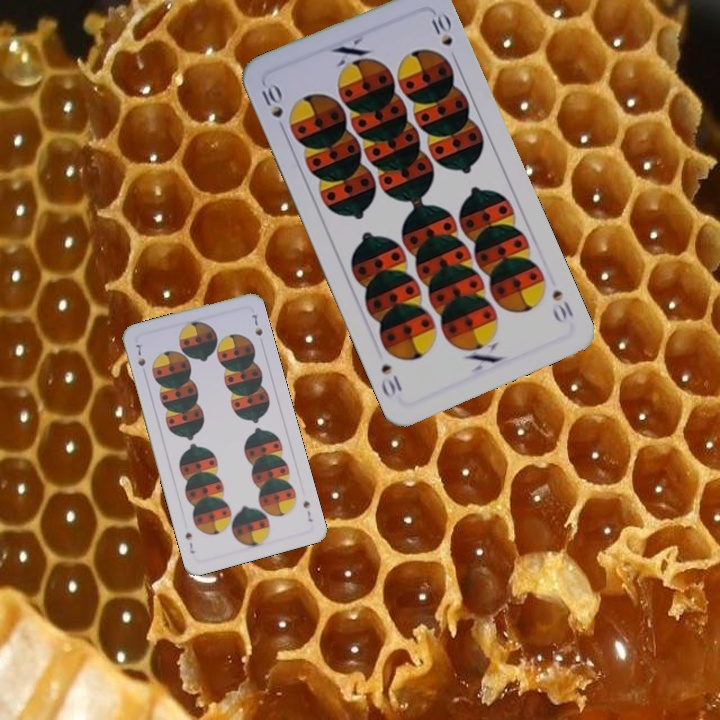S10: (257, 80, 286, 121), (548, 285, 576, 327)
S7: (131, 340, 148, 369), (299, 496, 315, 524)
